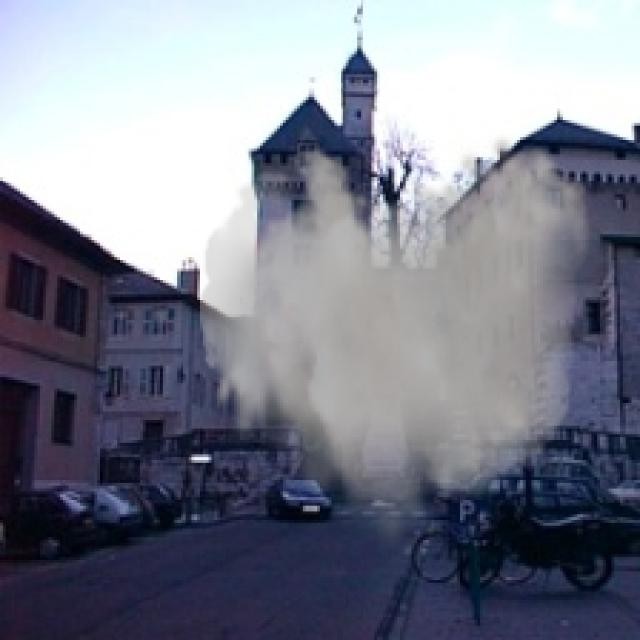smoke: (200, 135, 591, 554)
